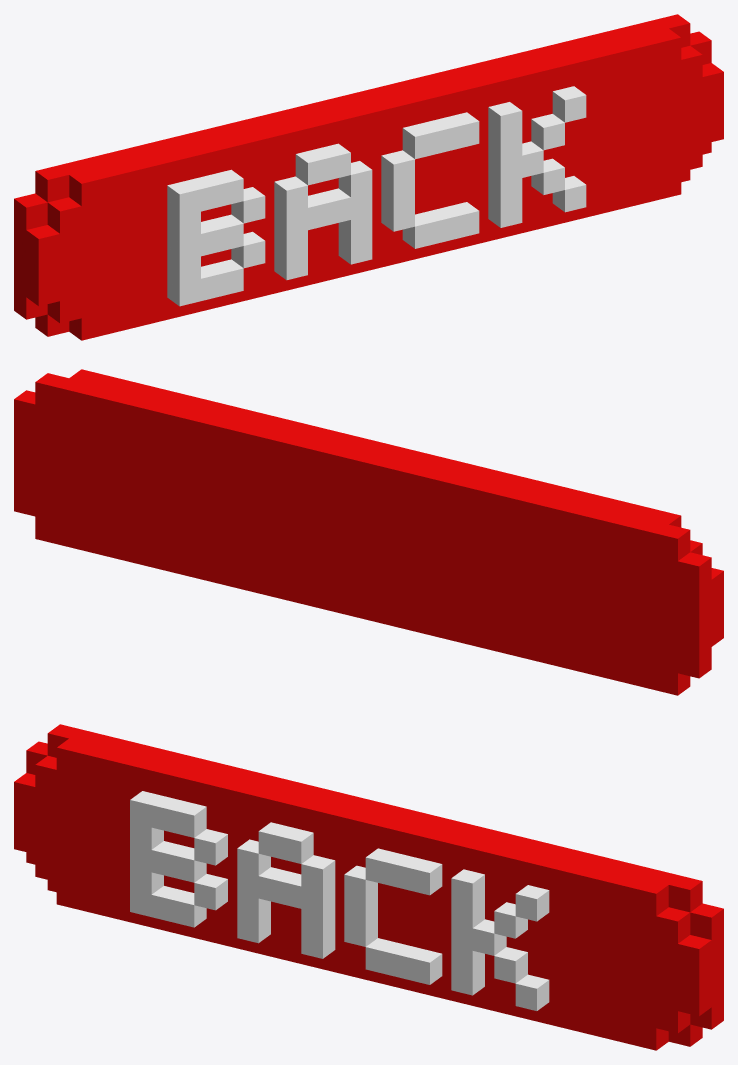
The model's file is back.obj.
3 views of the same model, one above another, from view 1: azimuth 30°, elevation 25°; view 2: azimuth 150°, elevation 25°; view 3: azimuth 330°, elevation 25° (orthographic).
Visible parts, largest first — view 1: back; view 2: back; view 3: back.
Part boxes in pixels (x1,y1,x2,y2): back: [14, 14, 723, 340]; back: [14, 369, 723, 695]; back: [14, 724, 723, 1050].
Bounding box in the file's own units: 32 × 7 × 3.
Materials: 1 (1 with a texture image).
